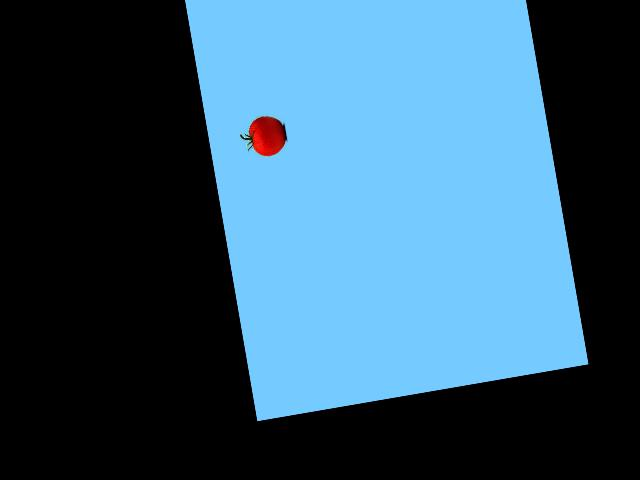tomato: (247, 113, 288, 159)
